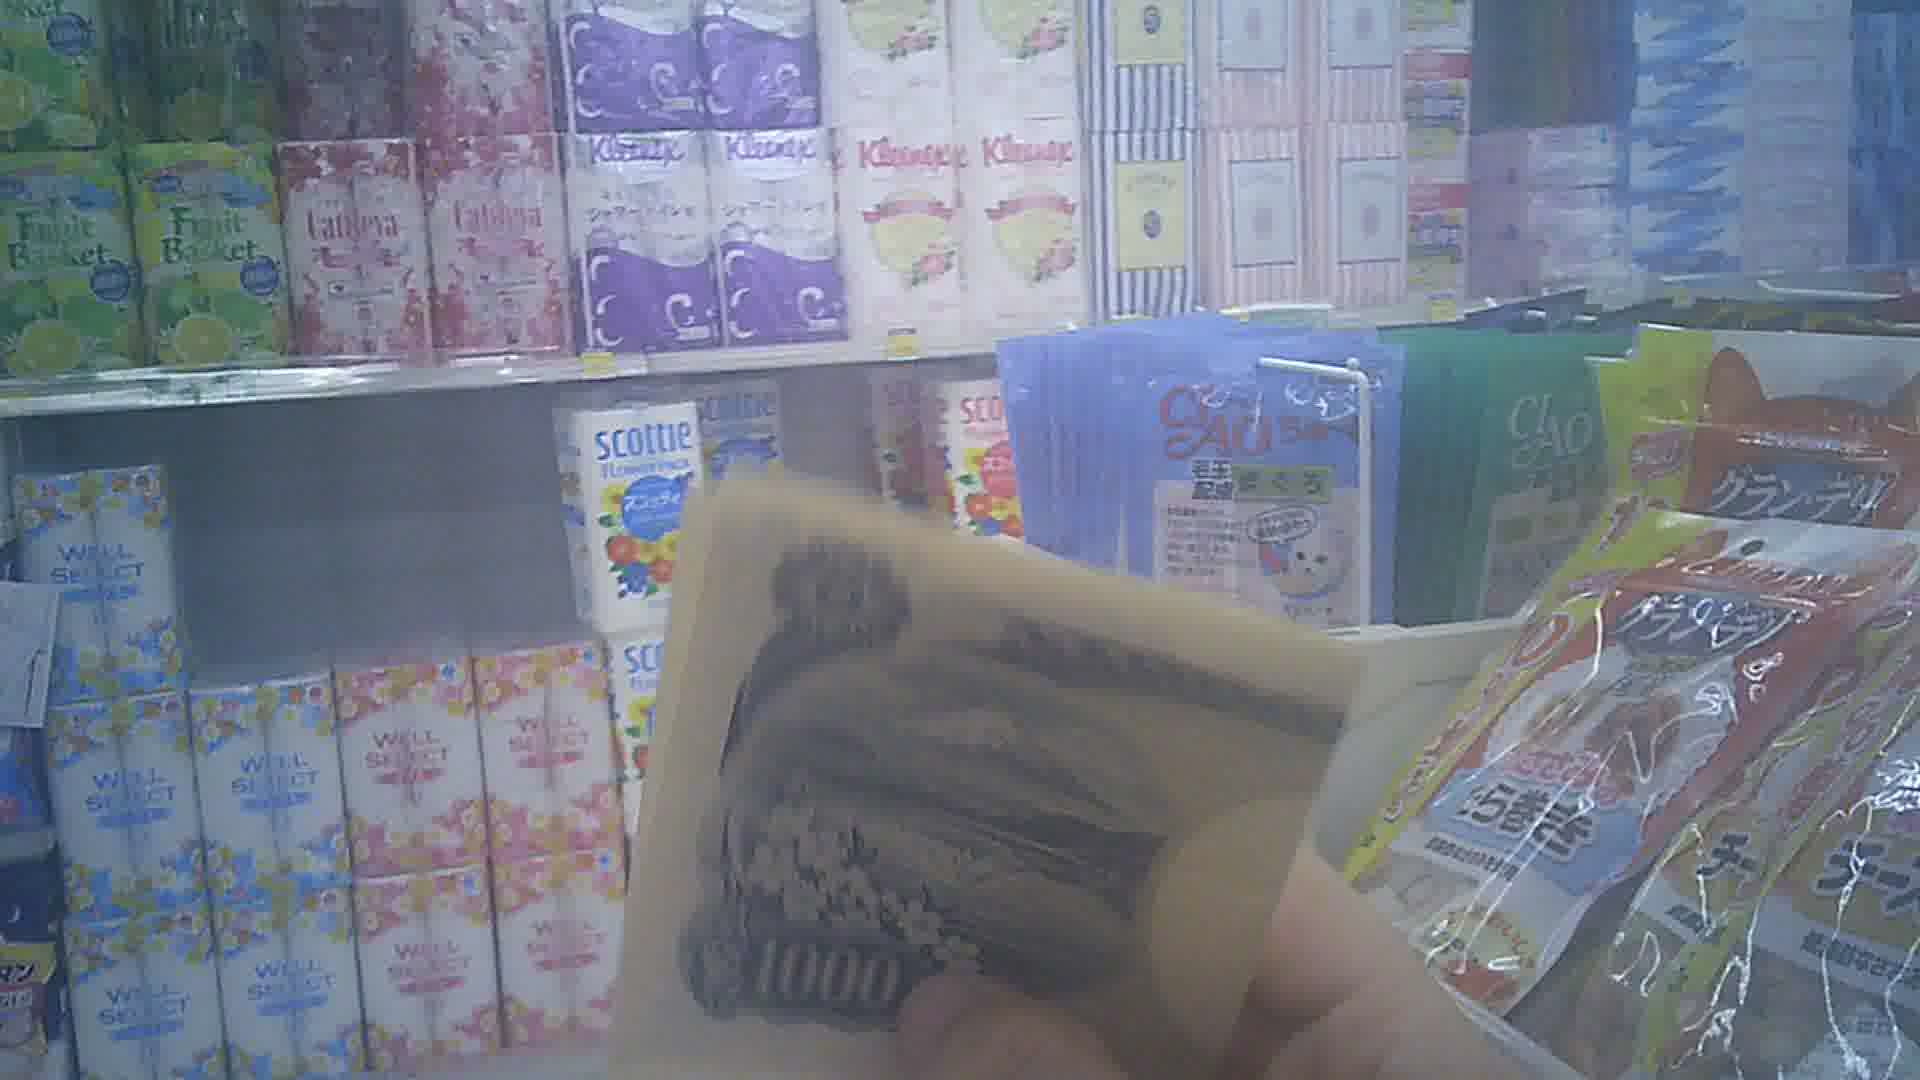1,000 Yen: (630, 465, 1313, 1079)
